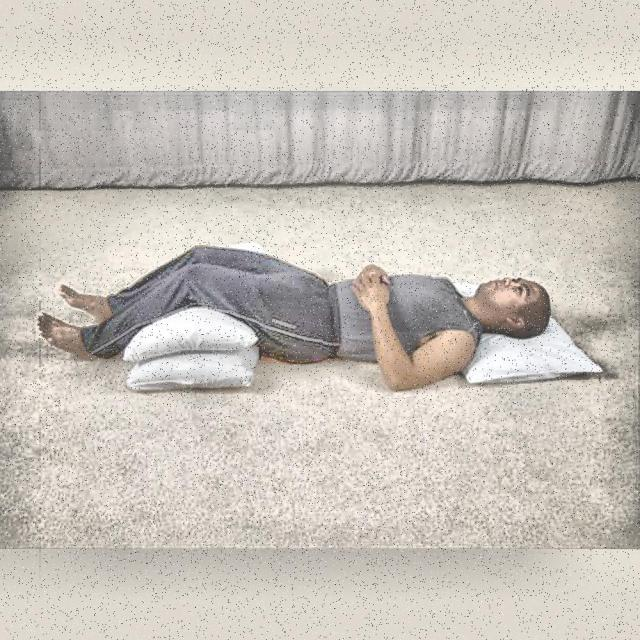Supine: (36, 245, 550, 390)
